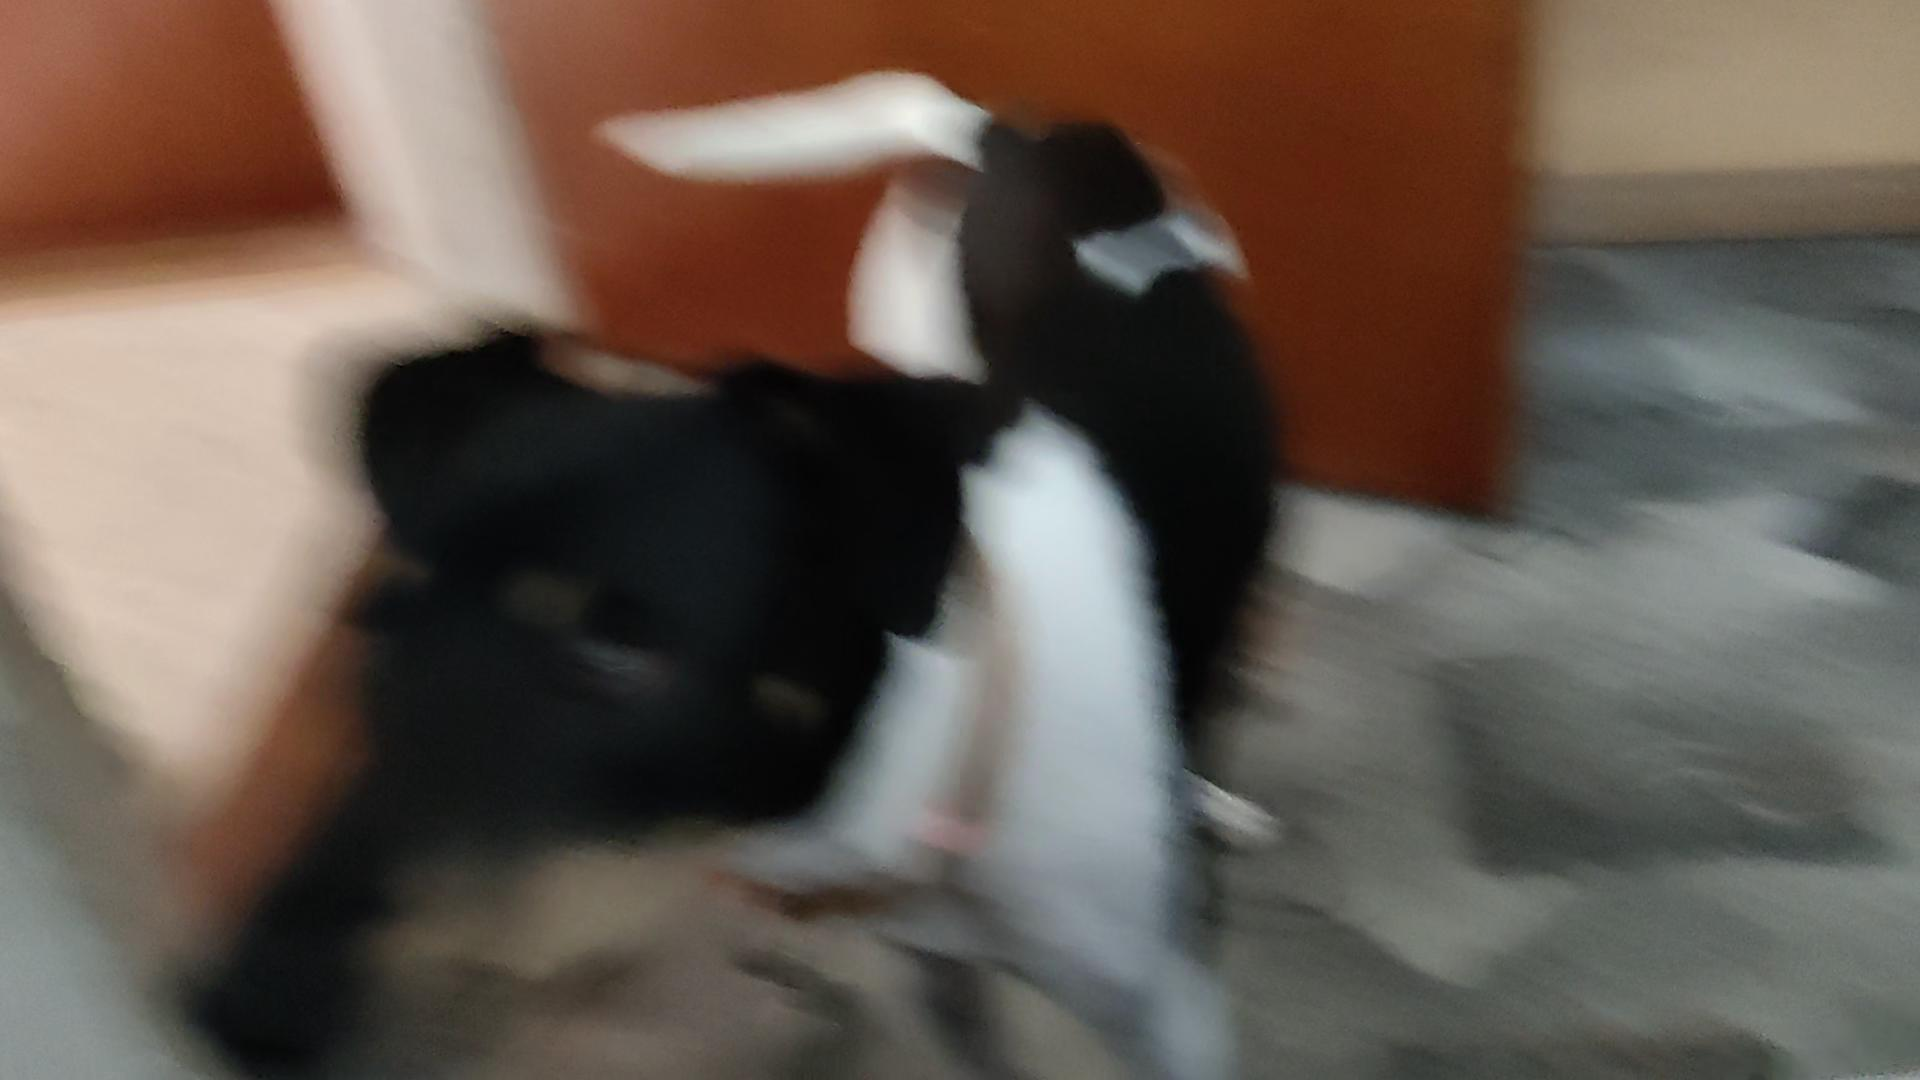Dog: (145, 46, 1345, 1079)
